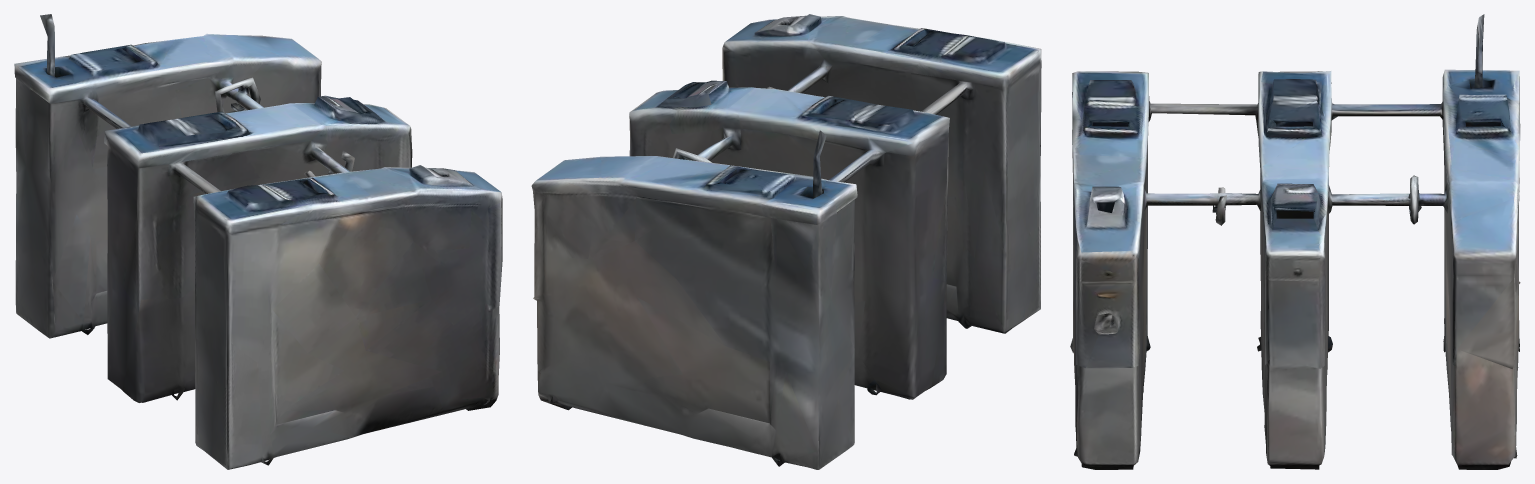
File: turnstile.glb
3 renders of one model, left to right at view 1: azimuth 30°, elevation 25°; view 2: azimuth 150°, elevation 25°; view 3: azimuth 270°, elevation 25°, orthographic. The views are drawn at different scales.
Parts seen in each view (by area): view 1: tripo_node_f63681d6-3432-4dcb-b9d1-fd9aaeb4c51c; view 2: tripo_node_f63681d6-3432-4dcb-b9d1-fd9aaeb4c51c; view 3: tripo_node_f63681d6-3432-4dcb-b9d1-fd9aaeb4c51c.
Boxes of the visible parts, box(x1,y1,x2,y2) form: tripo_node_f63681d6-3432-4dcb-b9d1-fd9aaeb4c51c: box(14, 14, 502, 469); tripo_node_f63681d6-3432-4dcb-b9d1-fd9aaeb4c51c: box(531, 14, 1041, 469); tripo_node_f63681d6-3432-4dcb-b9d1-fd9aaeb4c51c: box(1070, 14, 1520, 469).
Bounding box in the file's own units: 0.7495 × 0.8013 × 1.
Materials: 1 (1 with a texture image).
